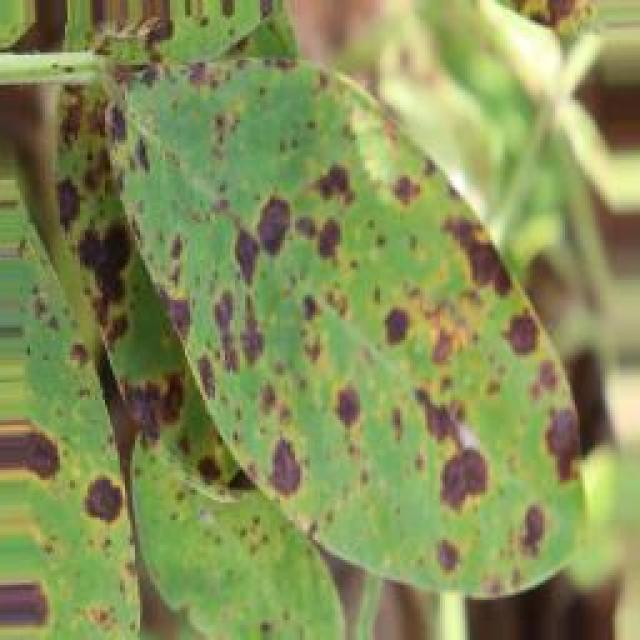Yellowish: (0, 57, 603, 607)
